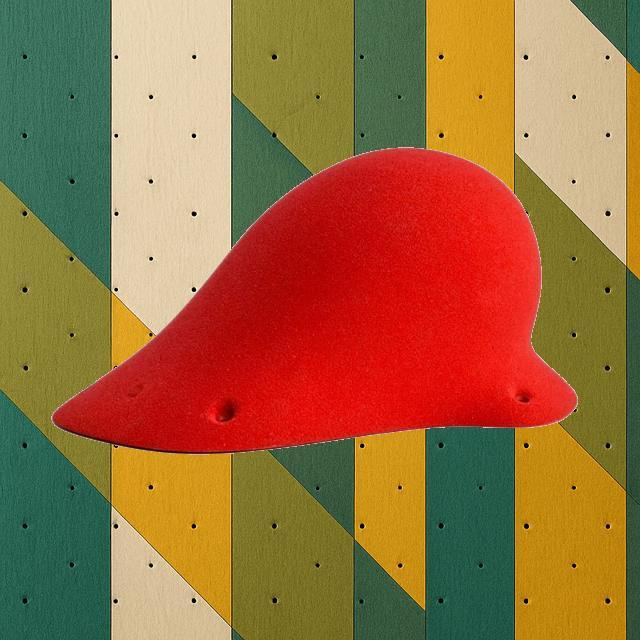Sloper: (50, 145, 578, 455)
